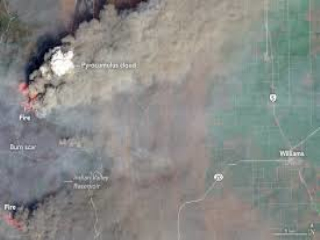smoke: (28, 6, 224, 97), (10, 182, 114, 235)
